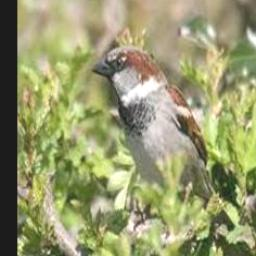Sparrow: (91, 45, 217, 203)
